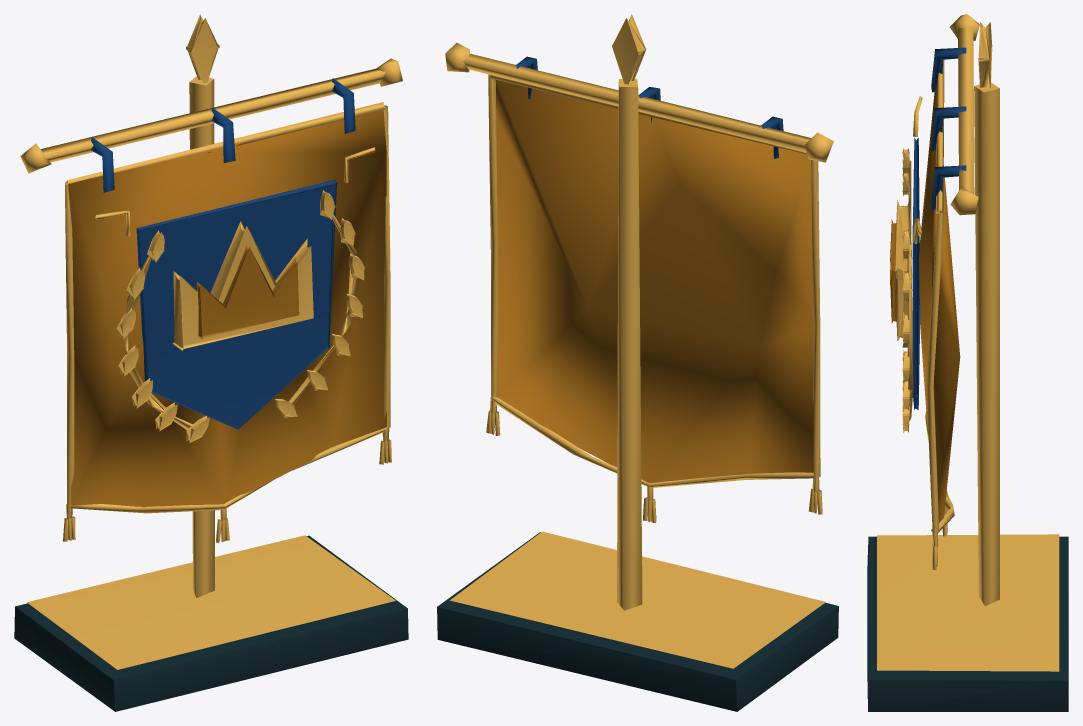
File: prime.banner.arena.lod1.glb
3 renders of one model, left to right at view 1: azimuth 30°, elevation 25°; view 2: azimuth 150°, elevation 25°; view 3: azimuth 270°, elevation 25°, orthographic.
Visible parts, largest first — view 1: banner_crest_inset; view 2: banner_crest_inset; view 3: banner_crest_inset.
Part boxes in pixels (x1,y1,x2,y2): banner_crest_inset: [14, 14, 408, 711]; banner_crest_inset: [437, 14, 838, 711]; banner_crest_inset: [867, 14, 1068, 711].
Bounding box in the file's own units: 0.4753 × 0.7456 × 0.2198.
